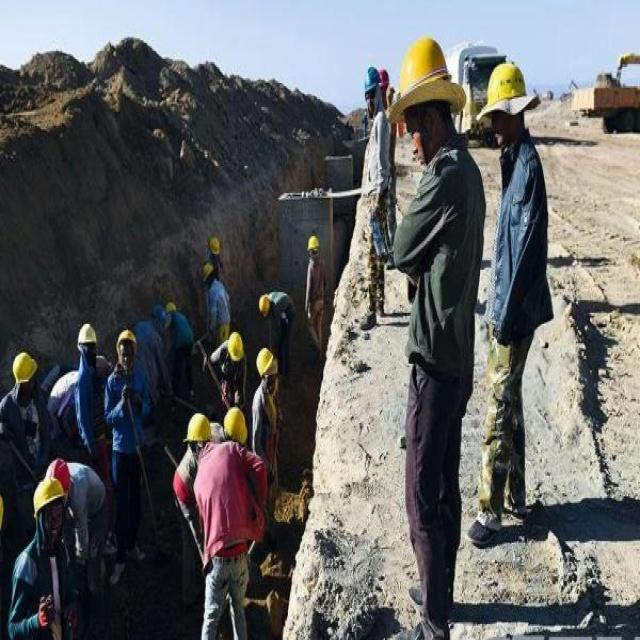helmet: (395, 48, 456, 220), (483, 77, 532, 199), (182, 548, 212, 608), (12, 466, 40, 526), (256, 465, 278, 531), (222, 544, 248, 599), (363, 88, 381, 159), (116, 439, 139, 489), (77, 429, 98, 483), (44, 613, 73, 640), (259, 392, 274, 428), (306, 308, 321, 343), (203, 349, 217, 384), (378, 89, 391, 124), (209, 315, 221, 349), (30, 639, 68, 640)
